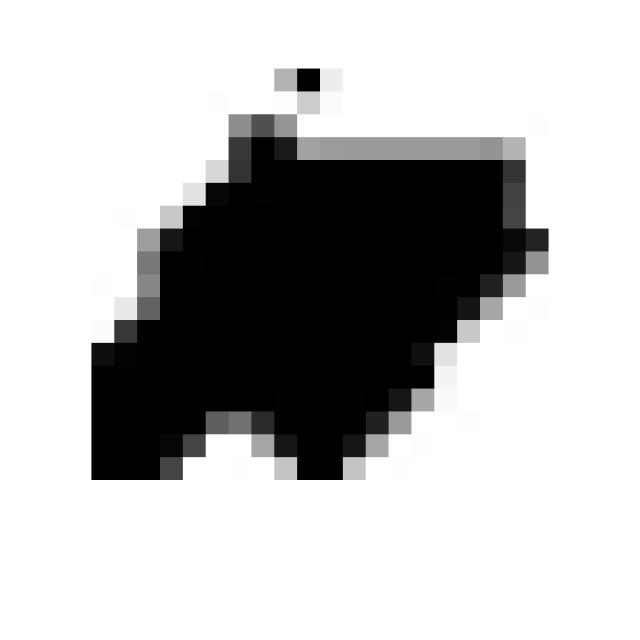0 -zero-: (73, 48, 560, 506)
